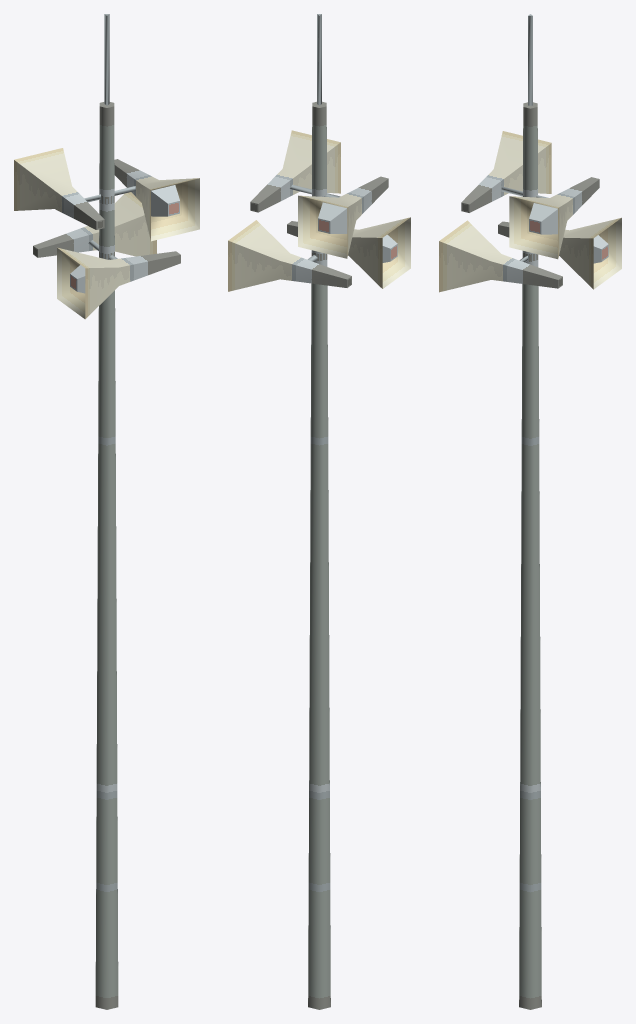
Rendered from 0440_Speakers.glb.
3 views of the same model, side by side, from view 1: azimuth 30°, elevation 25°; view 2: azimuth 150°, elevation 25°; view 3: azimuth 330°, elevation 25° (orthographic).
Visible parts, largest first — view 1: part_0; view 2: part_0; view 3: part_0.
Boxes of the visible parts, bbox=[...] form: part_0: bbox=[14, 14, 199, 1009]; part_0: bbox=[228, 14, 410, 1009]; part_0: bbox=[439, 14, 621, 1009].
Size of the model in its own units: 1.01 by 7.92 by 1.01.
Materials: 1 (1 with a texture image).
